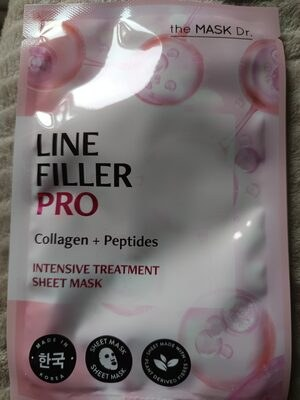LINE FILLER PRO: (15, 20, 285, 380)
